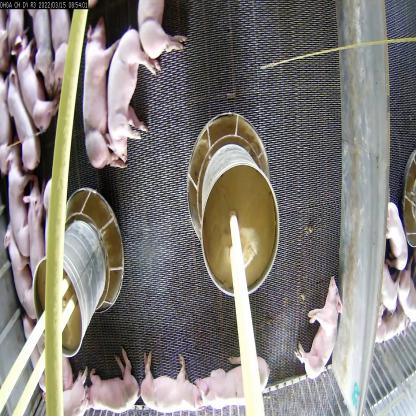Pig: (108, 33, 148, 164), (300, 271, 340, 389), (198, 349, 263, 415), (82, 24, 110, 168), (143, 359, 202, 415), (138, 0, 191, 61), (85, 362, 146, 415), (18, 190, 46, 291), (18, 47, 51, 132), (5, 145, 26, 254), (1, 224, 30, 298), (30, 10, 56, 90), (47, 2, 71, 79), (4, 80, 30, 149), (50, 370, 85, 415)
